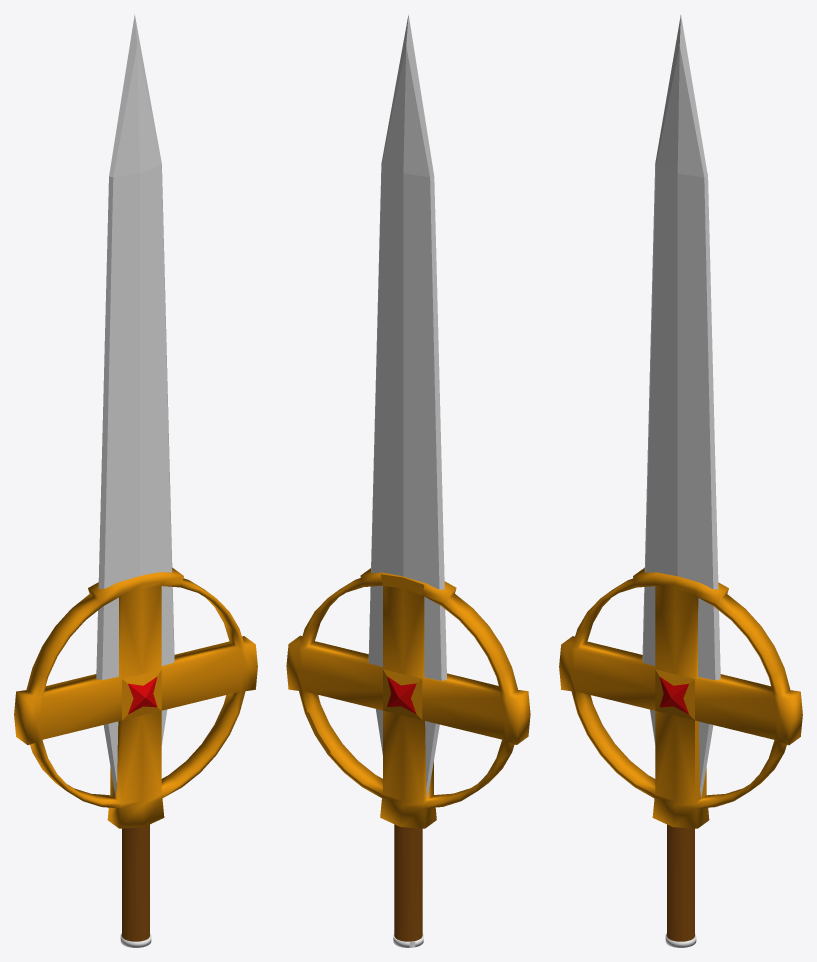
File: Eliana_Sword.fbx
3 renders of one model, left to right at view 1: azimuth 30°, elevation 25°; view 2: azimuth 150°, elevation 25°; view 3: azimuth 330°, elevation 25°, orthographic.
Parts seen in each view (by area): view 1: Sword; view 2: Sword; view 3: Sword.
Boxes of the visible parts, x1,y1,x2,y2 form: Sword: [14, 14, 257, 947]; Sword: [286, 14, 530, 947]; Sword: [559, 15, 802, 947].
Bounding box in the file's own units: 115 × 437 × 16.9.
